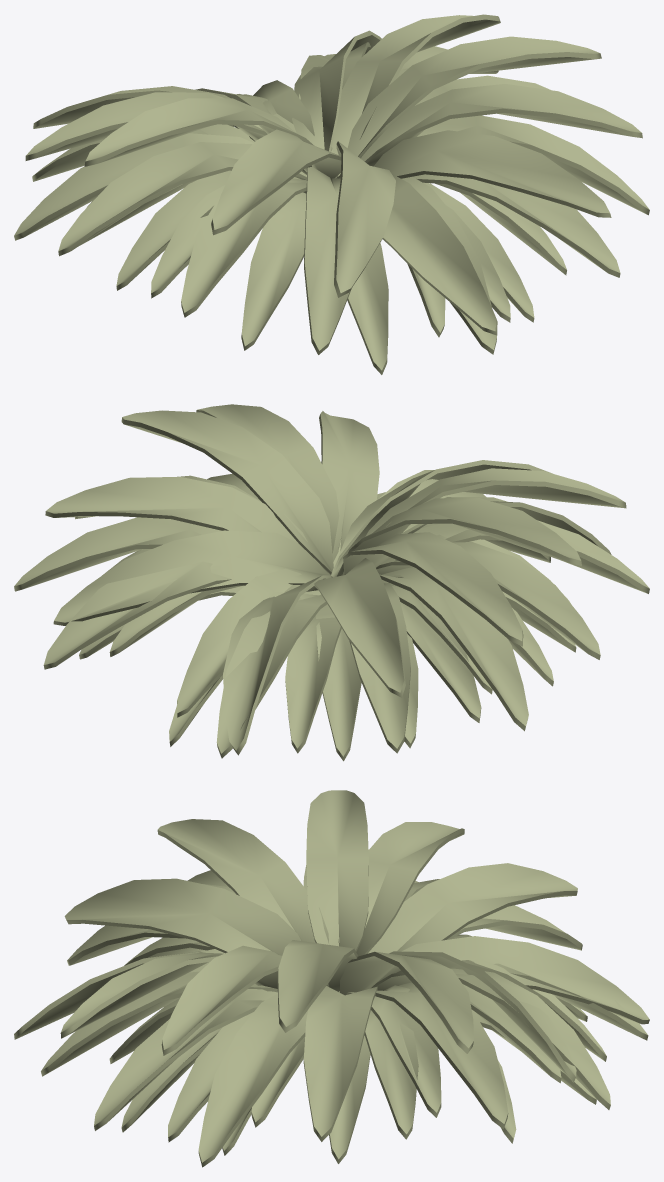
File: bush.fbx
3 views of the same model, one above another, from view 1: azimuth 30°, elevation 25°; view 2: azimuth 150°, elevation 25°; view 3: azimuth 270°, elevation 25° (orthographic). The views are drawn at different scales.
Visible parts, largest first — view 1: pCylinder18; view 2: pCylinder18; view 3: pCylinder18.
Part boxes in pixels (<box>): pCylinder18: <box>14,14,649,374</box>; pCylinder18: <box>14,404,649,761</box>; pCylinder18: <box>14,790,649,1167</box>.
Bounding box in the file's own units: 2.27 × 0.8203 × 2.25.
